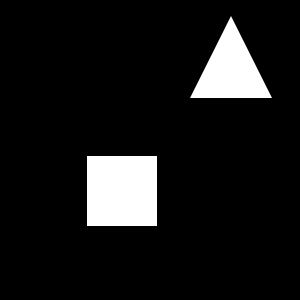circle: (87, 156, 157, 226)
triangle: (190, 16, 272, 98)
